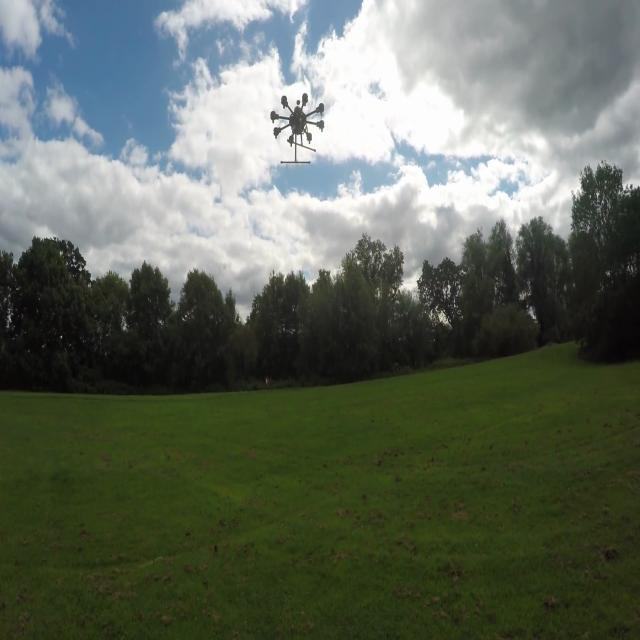drone: (264, 74, 366, 220)
